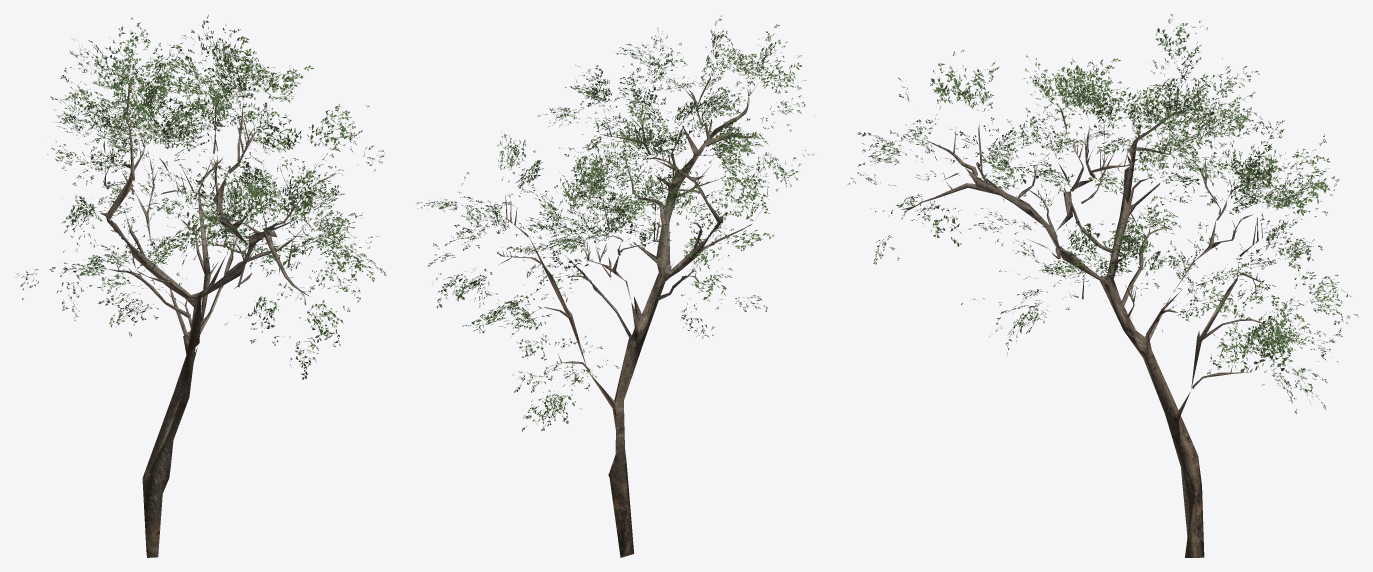
The model's file is tree-small-02-flow-lod-512.glb.
3 views of the same model, side by side, from view 1: azimuth 30°, elevation 25°; view 2: azimuth 150°, elevation 25°; view 3: azimuth 270°, elevation 25° (orthographic). The views are drawn at different scales.
Visible parts, largest first — view 1: tree_small_02_LOD0; view 2: tree_small_02_LOD0; view 3: tree_small_02_LOD0.
Part boxes in pixels (<box>): tree_small_02_LOD0: <box>15,15,386,557</box>; tree_small_02_LOD0: <box>416,15,814,557</box>; tree_small_02_LOD0: <box>847,14,1358,557</box>.
Bounding box in the file's own units: 2.87 × 4.54 × 4.18.
Materials: 3 (3 with a texture image).
